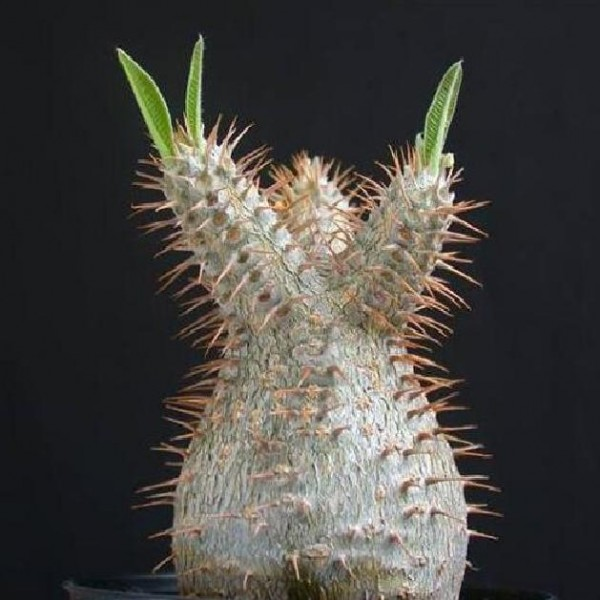Pachypodium rosulatum: (123, 54, 508, 596)
